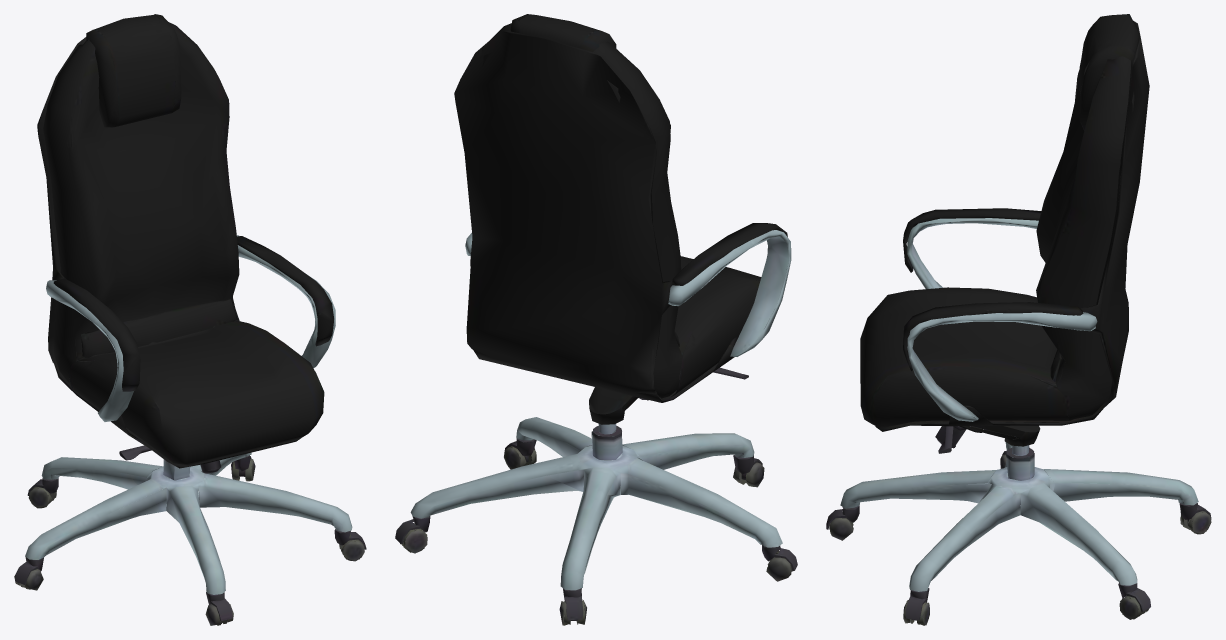
The model's file is chair-6.glb.
3 renders of one model, left to right at view 1: azimuth 30°, elevation 25°; view 2: azimuth 150°, elevation 25°; view 3: azimuth 270°, elevation 25°, orthographic. The views are drawn at different scales.
Visible parts, largest first — view 1: officeChair; view 2: officeChair; view 3: officeChair.
Part boxes in pixels (x1=…): officeChair: x1=14, y1=14, x2=366, y2=625; officeChair: x1=395, y1=14, x2=797, y2=625; officeChair: x1=826, y1=14, x2=1211, y2=625.
Bounding box in the file's own units: 8.31 × 13.02 × 8.58.
Materials: 1 (1 with a texture image).
